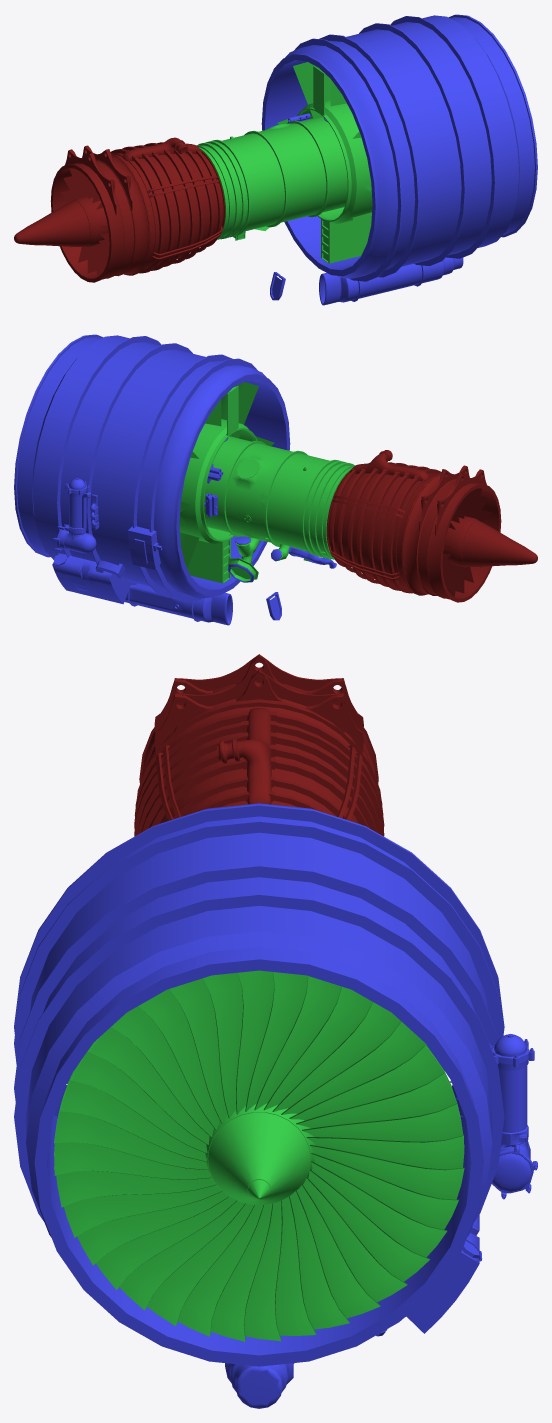
Rendered from body_all.FBX.
The picture shows the model from 3 angles, top to bottom: view 1: azimuth 30°, elevation 25°; view 2: azimuth 150°, elevation 25°; view 3: azimuth 270°, elevation 25°; orthographic projection. The views are drawn at different scales.
Visible parts, largest first — view 1: L_020, L_002, L_006, L_013, L_009, L_012, L_015, L_001, L_033, L_011, L_014, L_004 (+7 smaller); view 2: L_020, L_002, L_013, L_006, L_009, L_012, L_015, L_001, L_032, L_011, L_033, L_030 (+11 smaller); view 3: L_018, L_020, L_009, L_019, L_006, L_030, L_036, L_003, L_002, L_010, L_032, L_033 (+1 smaller).
Part boxes in pixels (left/top/right/bottom): L_020: left=261, top=14, right=537, bottom=281; L_002: left=50, top=153, right=150, bottom=282; L_006: left=111, top=151, right=225, bottom=275; L_013: left=254, top=121, right=328, bottom=230; L_009: left=110, top=142, right=222, bottom=273; L_012: left=217, top=131, right=286, bottom=240; L_015: left=296, top=99, right=372, bottom=223; L_001: left=14, top=196, right=108, bottom=247; L_033: left=319, top=257, right=463, bottom=305; L_011: left=196, top=140, right=249, bottom=239; L_014: left=294, top=116, right=347, bottom=215; L_004: left=60, top=168, right=109, bottom=276; L_020: left=14, top=334, right=290, bottom=601; L_002: left=401, top=473, right=501, bottom=602; L_013: left=223, top=441, right=297, bottom=581; L_006: left=326, top=471, right=440, bottom=595; L_009: left=329, top=462, right=441, bottom=593; L_012: left=265, top=451, right=334, bottom=561; L_015: left=179, top=419, right=257, bottom=543; L_001: left=443, top=516, right=537, bottom=567; L_032: left=52, top=553, right=130, bottom=604; L_011: left=302, top=460, right=355, bottom=559; L_033: left=124, top=584, right=232, bottom=625; L_030: left=53, top=478, right=96, bottom=553; L_018: left=54, top=970, right=464, bottom=1341; L_020: left=14, top=803, right=504, bottom=1366; L_009: left=134, top=710, right=384, bottom=836; L_019: left=205, top=1103, right=315, bottom=1204; L_006: left=135, top=703, right=382, bottom=823; L_030: left=489, top=1034, right=537, bottom=1199; L_036: left=154, top=669, right=363, bottom=753; L_003: left=154, top=654, right=363, bottom=732; L_002: left=134, top=684, right=383, bottom=815; L_010: left=217, top=707, right=271, bottom=804; L_032: left=376, top=1215, right=482, bottom=1336; L_033: left=225, top=1363, right=294, bottom=1408.
Size of the model in its own units: 2504 by 1218 by 1147.
